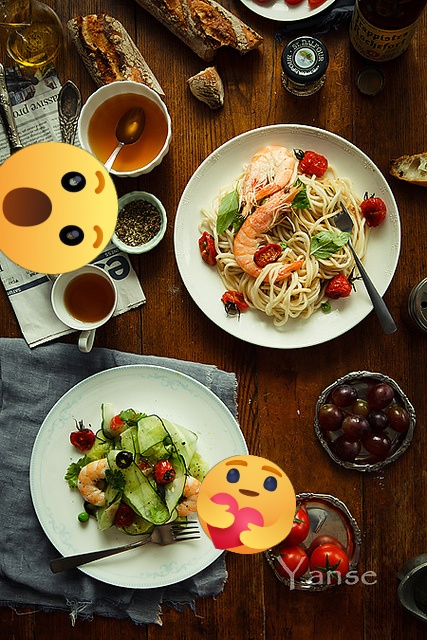care: (197, 455, 296, 554)
wow: (0, 142, 118, 274)
